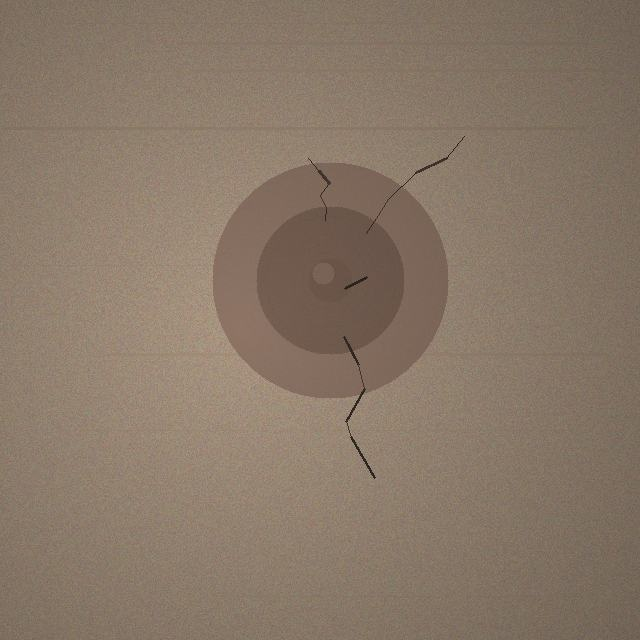crack: (212, 162, 448, 398)
